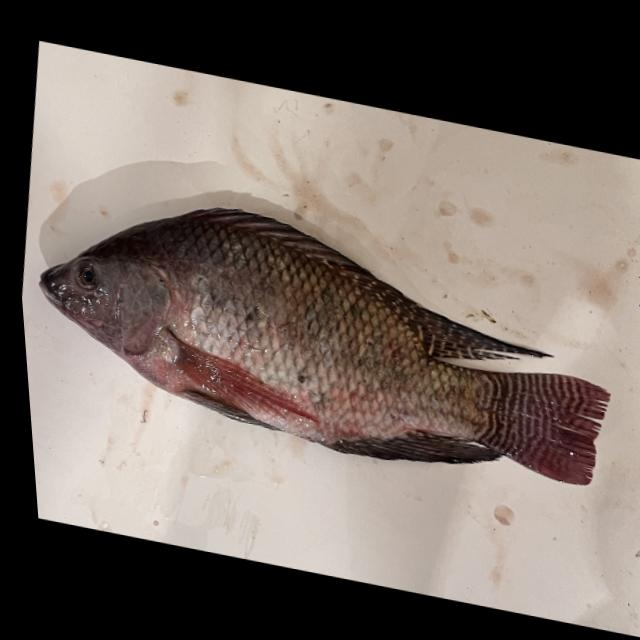Tilapia: (22, 170, 631, 501)
